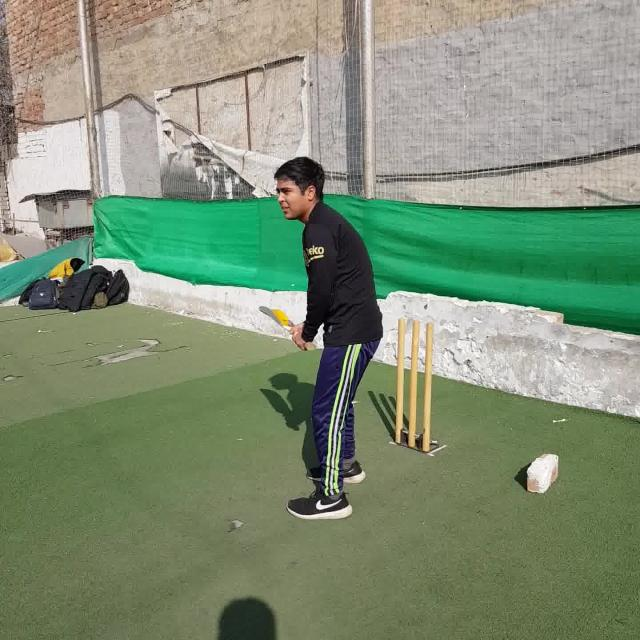bat: (258, 306, 315, 351)
